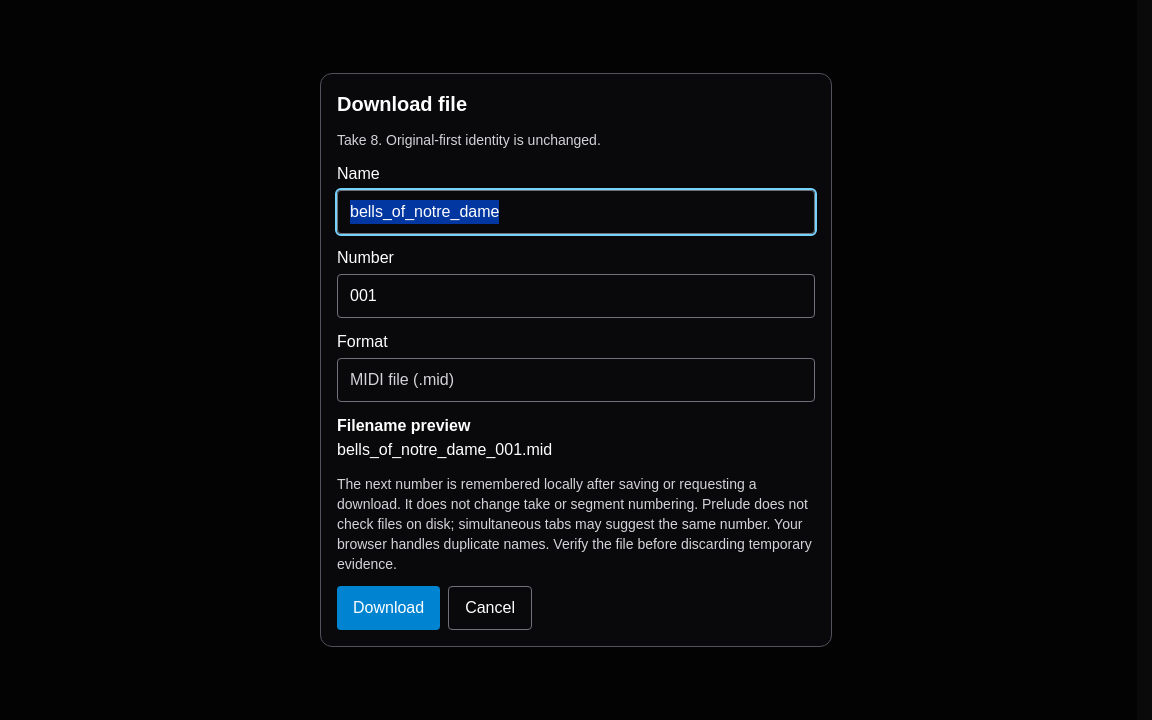
shared download dialog › blocks 000 and invalid input, allows an empty name fallback, and uses a fixed extension
The image size is (1152, 720).
Replace the text in the field labelled "Number" with "000" at (576, 296), box x1=337 y1=274 x2=815 y2=318
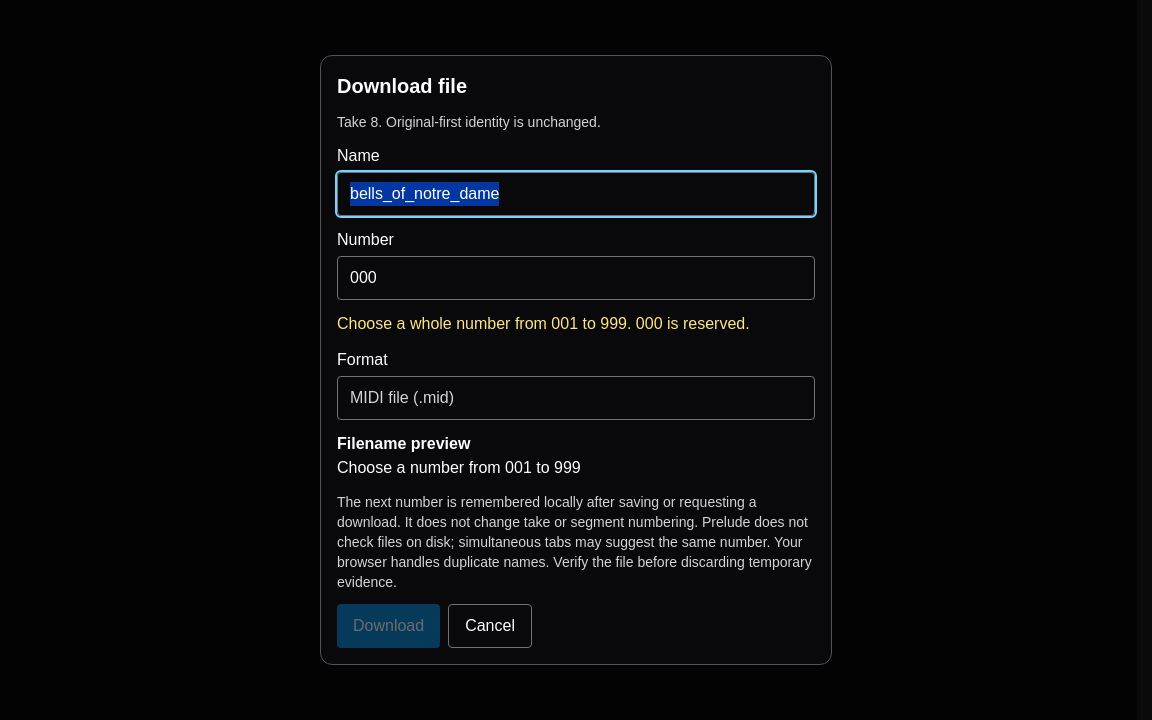
Check: the button "Download" is disabled, box x1=337 y1=604 x2=440 y2=648
Submit the form, box x1=337 y1=72 x2=815 y2=648
Replace the text in the field labelled "Number" with "999" at (576, 278), box x1=337 y1=256 x2=815 y2=300
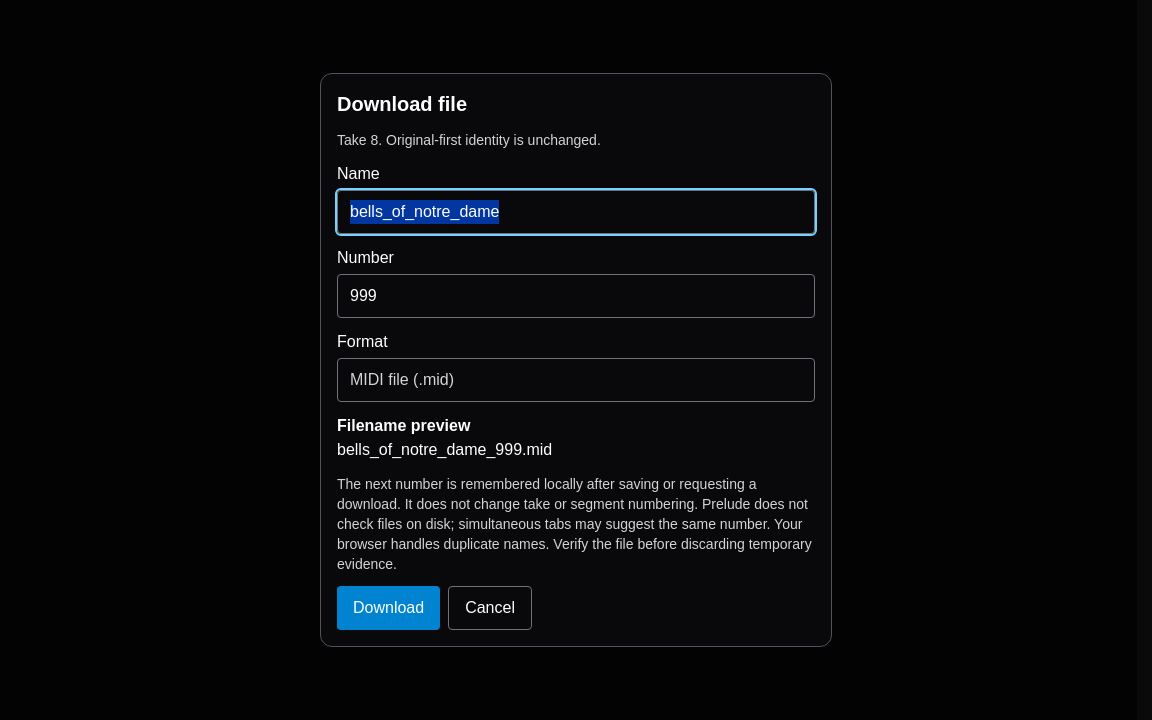
Clear the field labelled "Name" at (576, 212), box x1=337 y1=190 x2=815 y2=234
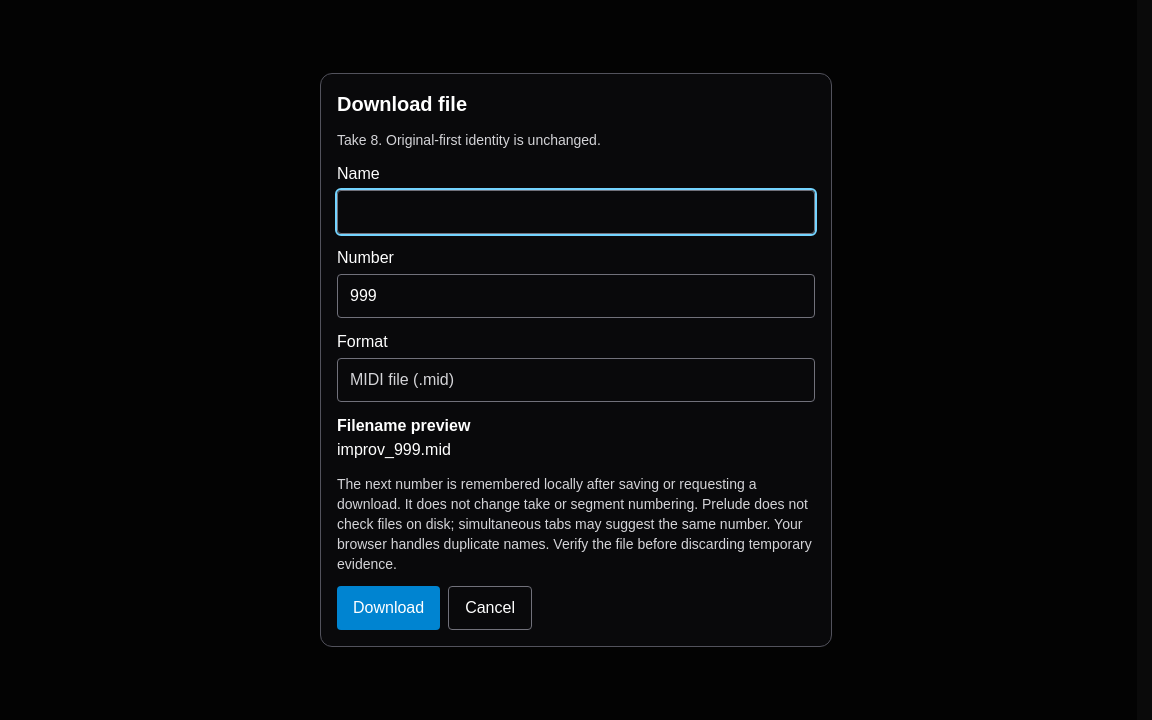
Check: the text named "Filename preview" reads "improv_999.mid", box x1=337 y1=441 x2=451 y2=458
